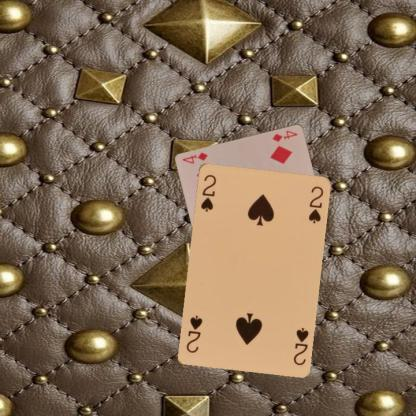2s: (290, 324, 310, 366), (198, 172, 217, 212)
4d: (270, 128, 299, 142)
